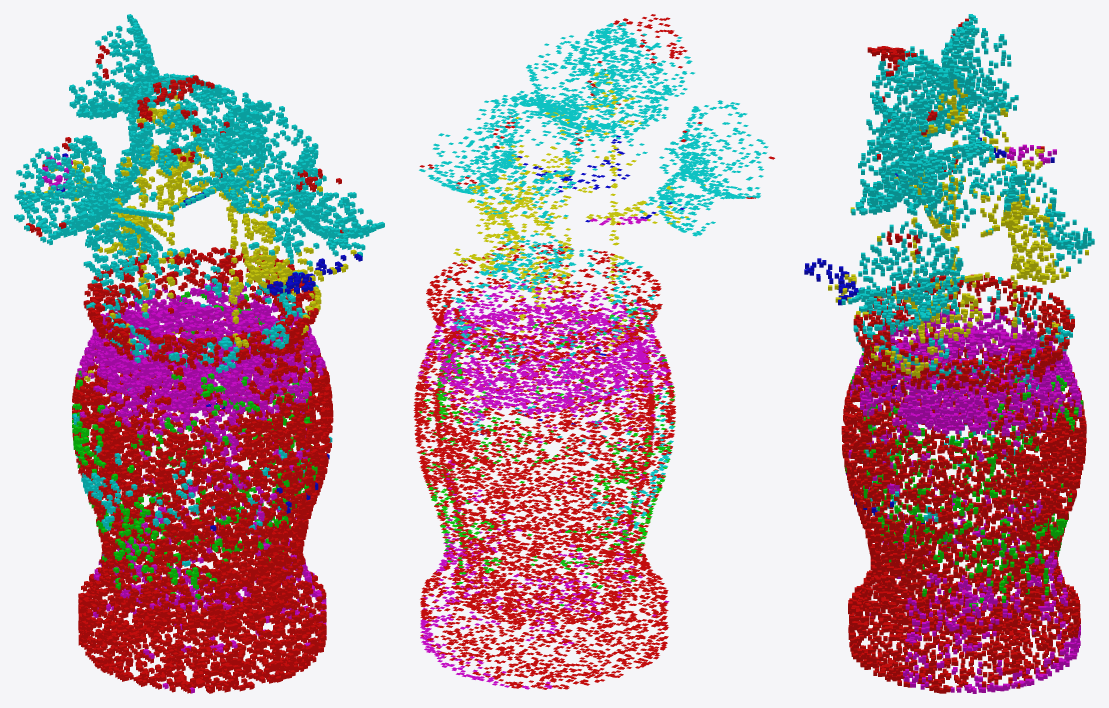
The model's file is pred.glb.
The picture shows the model from 3 angles, left to right: view 1: azimuth 30°, elevation 25°; view 2: azimuth 150°, elevation 25°; view 3: azimuth 270°, elevation 25°; orthographic projection. The views are drawn at different scales.
Visible parts, largest first — view 1: world; view 2: world; view 3: world.
Boxes of the visible parts, x1,y1,x2,y2 form: world: [14, 14, 384, 693]; world: [413, 14, 774, 689]; world: [804, 14, 1094, 693].
Bounding box in the file's own units: 0.7194 × 1.27 × 0.5653.
